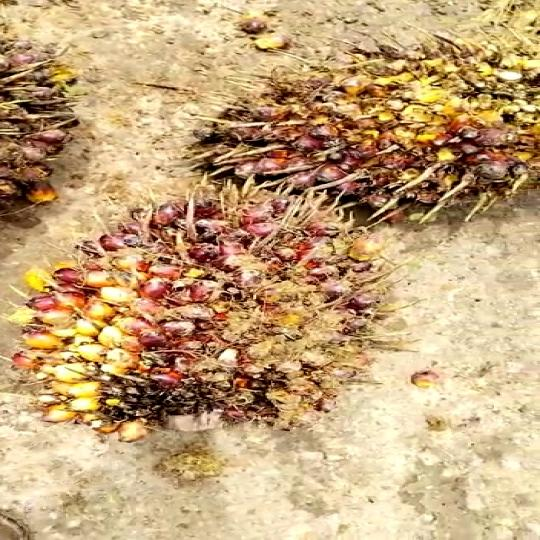masak: (0, 184, 434, 438), (182, 34, 540, 224)
